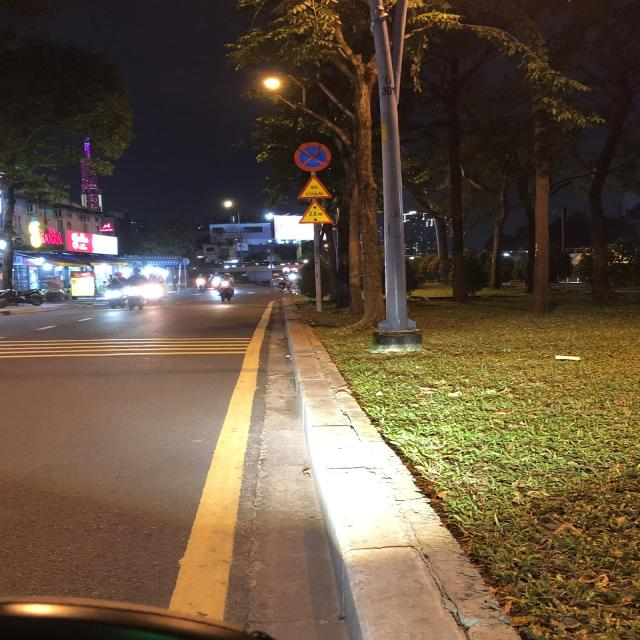Bien bao cam dung xe va do xe: (290, 139, 334, 175)
Bien bao chieu cao tinh khong thuc te: (297, 199, 338, 225)
Bien bao di cham: (295, 175, 335, 201)
